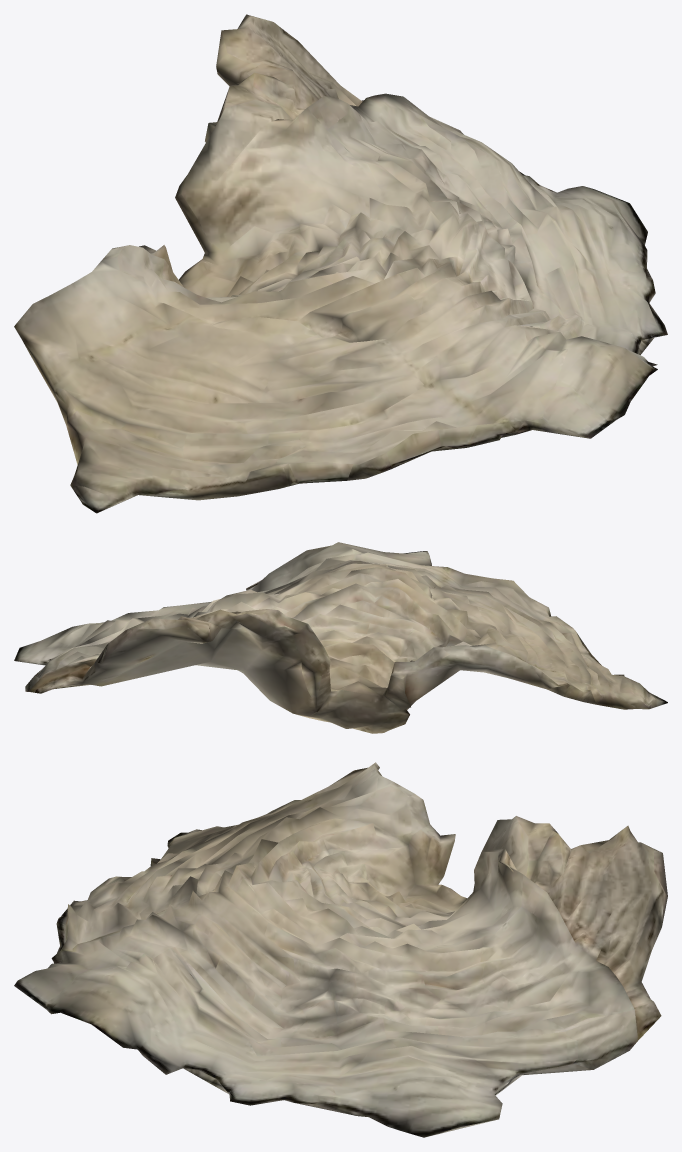
Rendered from foliose.glb.
3 views of the same model, one above another, from view 1: azimuth 30°, elevation 25°; view 2: azimuth 150°, elevation 25°; view 3: azimuth 270°, elevation 25° (orthographic). The views are drawn at different scales.
Bounding box in the file's own units: 0.1292 × 0.0359 × 0.1158.
1 material, 1 textured.
